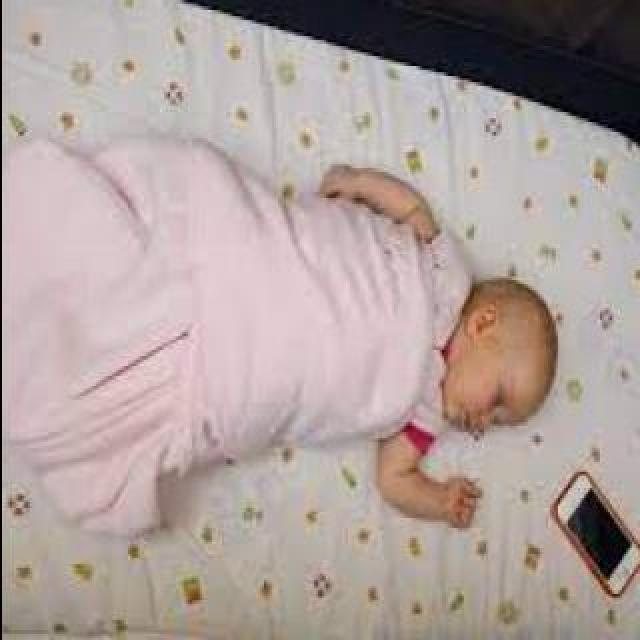baby: (91, 124, 557, 526)
